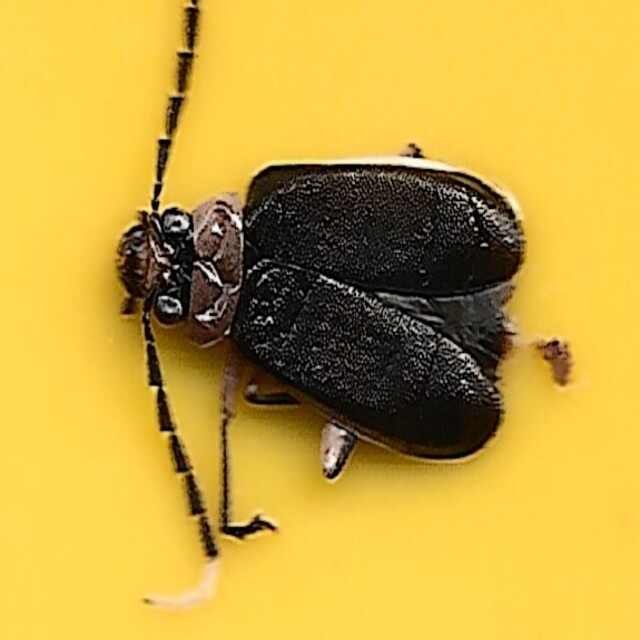Coleoptera: (111, 155, 529, 485)
